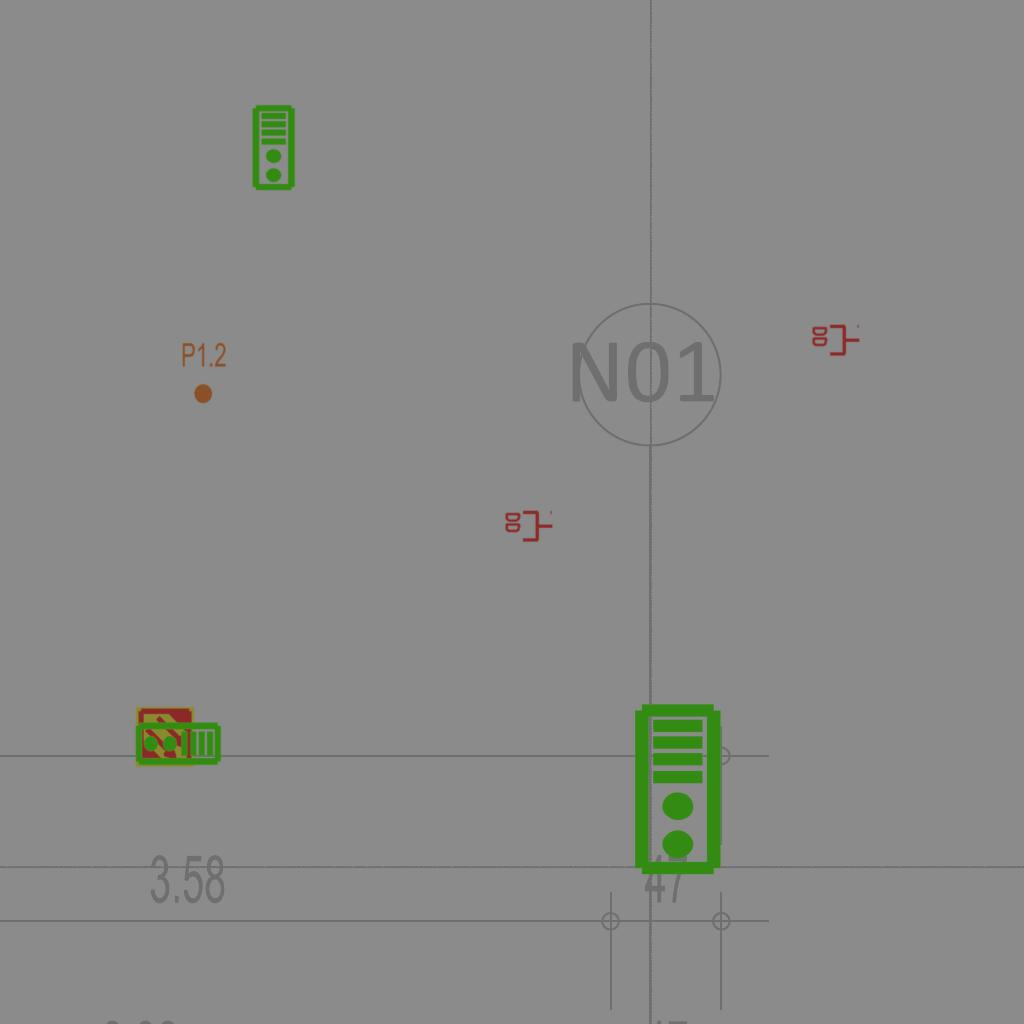ASR_Ansaugrauchmelder: (134, 706, 196, 768)
Datenanschluss_zweifach: (503, 510, 554, 544), (810, 324, 861, 358)
Downlight_LED_Einbauleuchten_Flur: (181, 341, 227, 405)
Gegensprechanlage_mit_Video: (632, 702, 727, 878), (251, 104, 298, 192), (134, 721, 222, 768)
